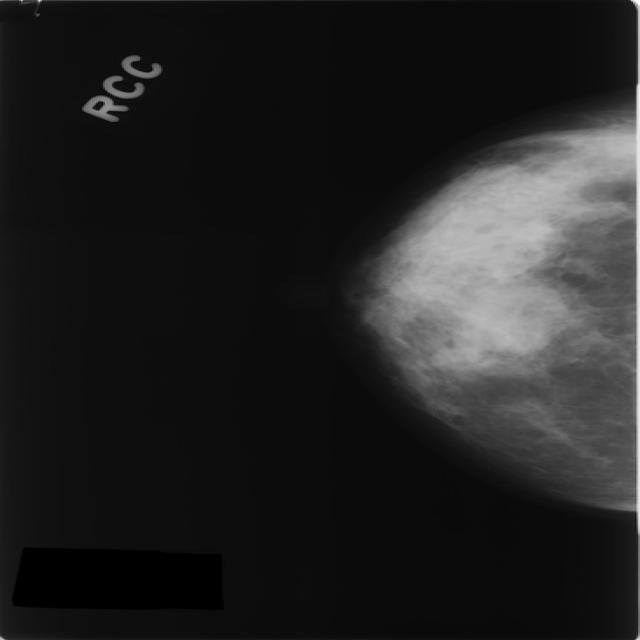tumour: (490, 285, 554, 349)
